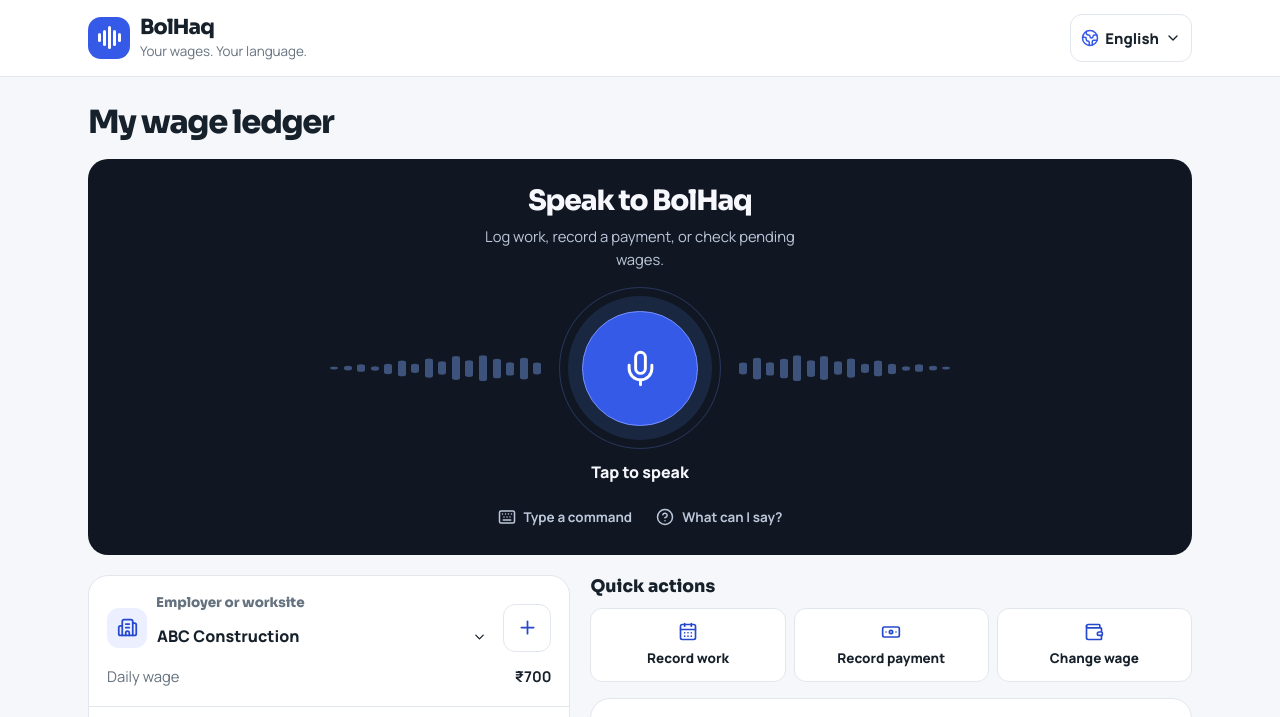
confirmation and recording UI › prefills the daily wage and commits the edited pending amount
Later steps or results of the test are not shown.
Step 1. Click the button named "Tap to speak" → (640, 368), box top-left (582, 311), bottom-right (698, 426)
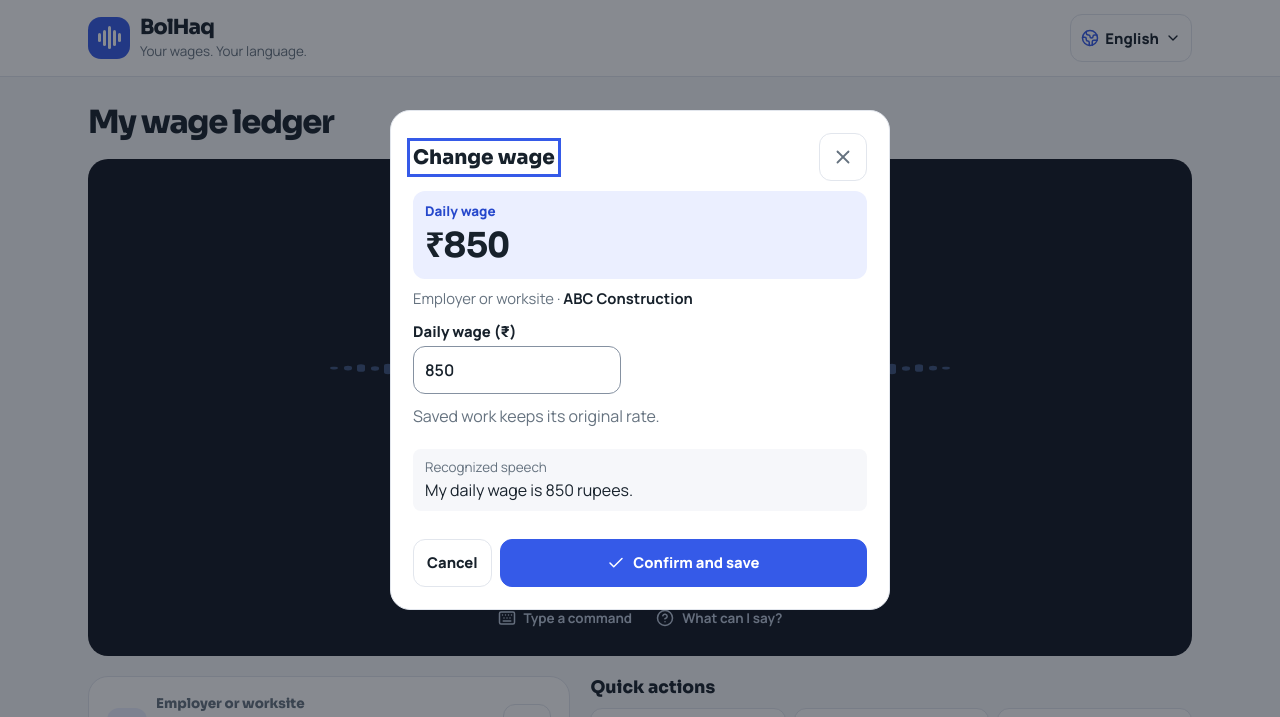
Now the field labelled "Daily wage (₹)" holds "850"
Step 2. Replace the text in the field labelled "Daily wage (₹)" with "900.50" → (517, 370), box top-left (413, 346), bottom-right (621, 394)
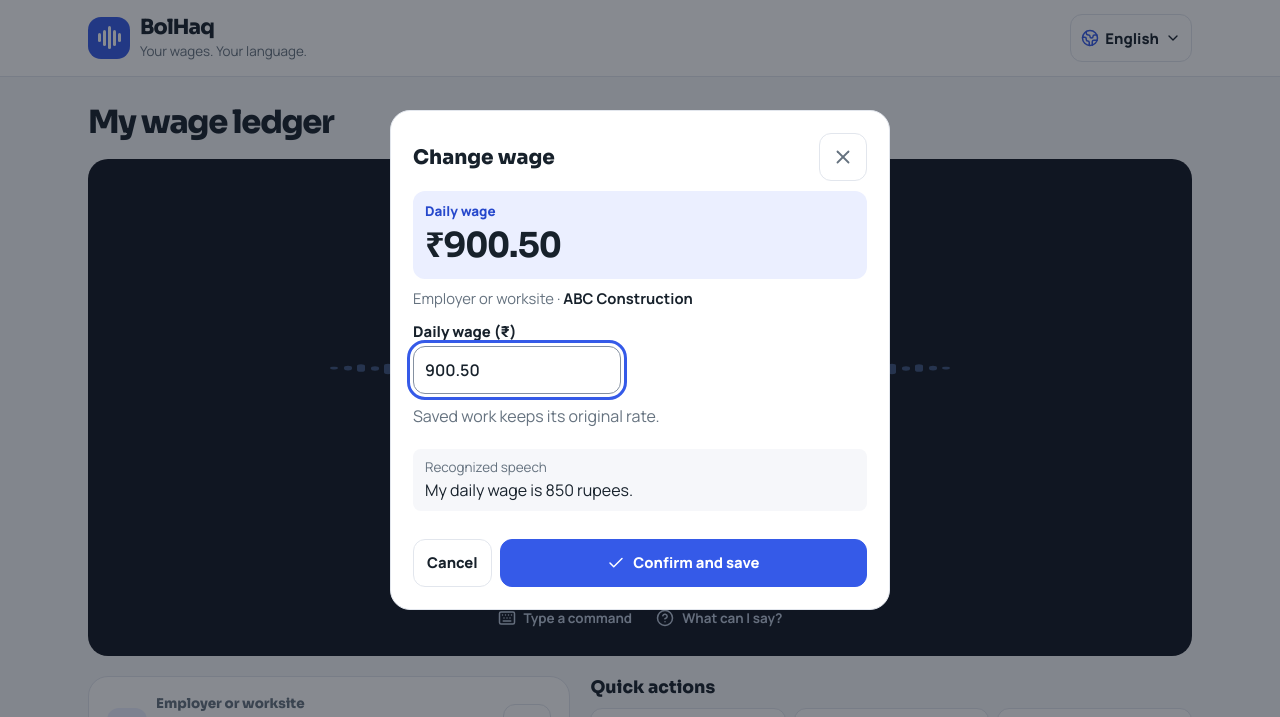
Now the text "₹900.50" is shown, box top-left (425, 224), bottom-right (561, 267)
